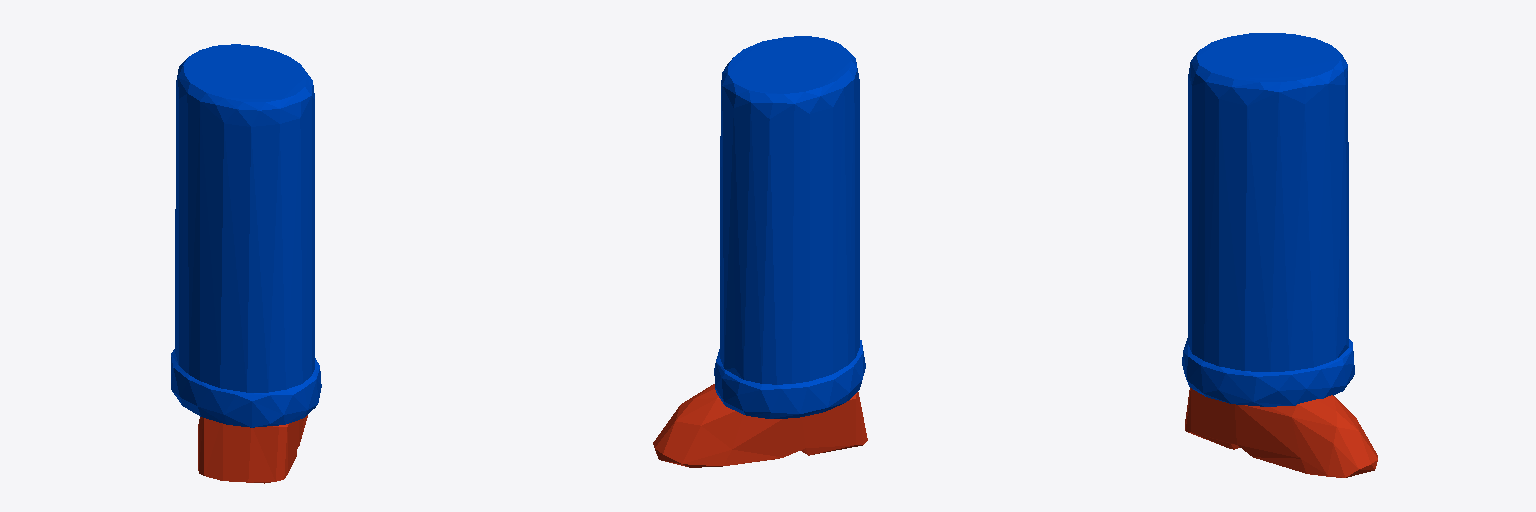
File: piernaDer.obj
The picture shows the model from 3 angles: view 1: azimuth 30°, elevation 25°; view 2: azimuth 150°, elevation 25°; view 3: azimuth 270°, elevation 25°; orthographic projection.
Visible parts, largest first — view 1: Pierna_Der_Homer_Sphere.004; view 2: Pierna_Der_Homer_Sphere.004; view 3: Pierna_Der_Homer_Sphere.004.
Part boxes in pixels (left/top/right/bottom): Pierna_Der_Homer_Sphere.004: left=171, top=44, right=321, bottom=483; Pierna_Der_Homer_Sphere.004: left=653, top=36, right=867, bottom=467; Pierna_Der_Homer_Sphere.004: left=1182, top=33, right=1377, bottom=477.
Size of the model in its own units: 0.742 by 1.72 by 0.8017.